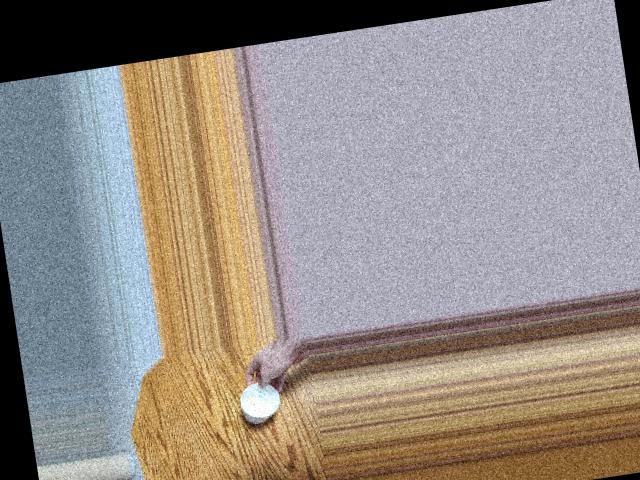cotage: (230, 372, 289, 425)
